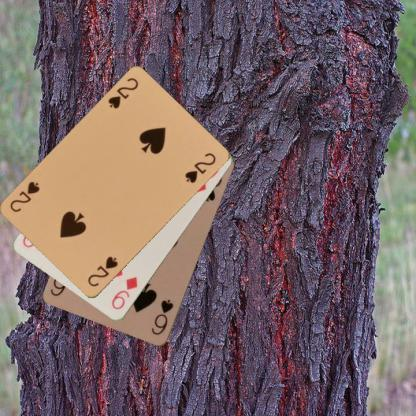2s: (105, 75, 140, 110), (86, 254, 120, 288)
6s: (149, 297, 175, 337)
9d: (108, 274, 140, 312)
